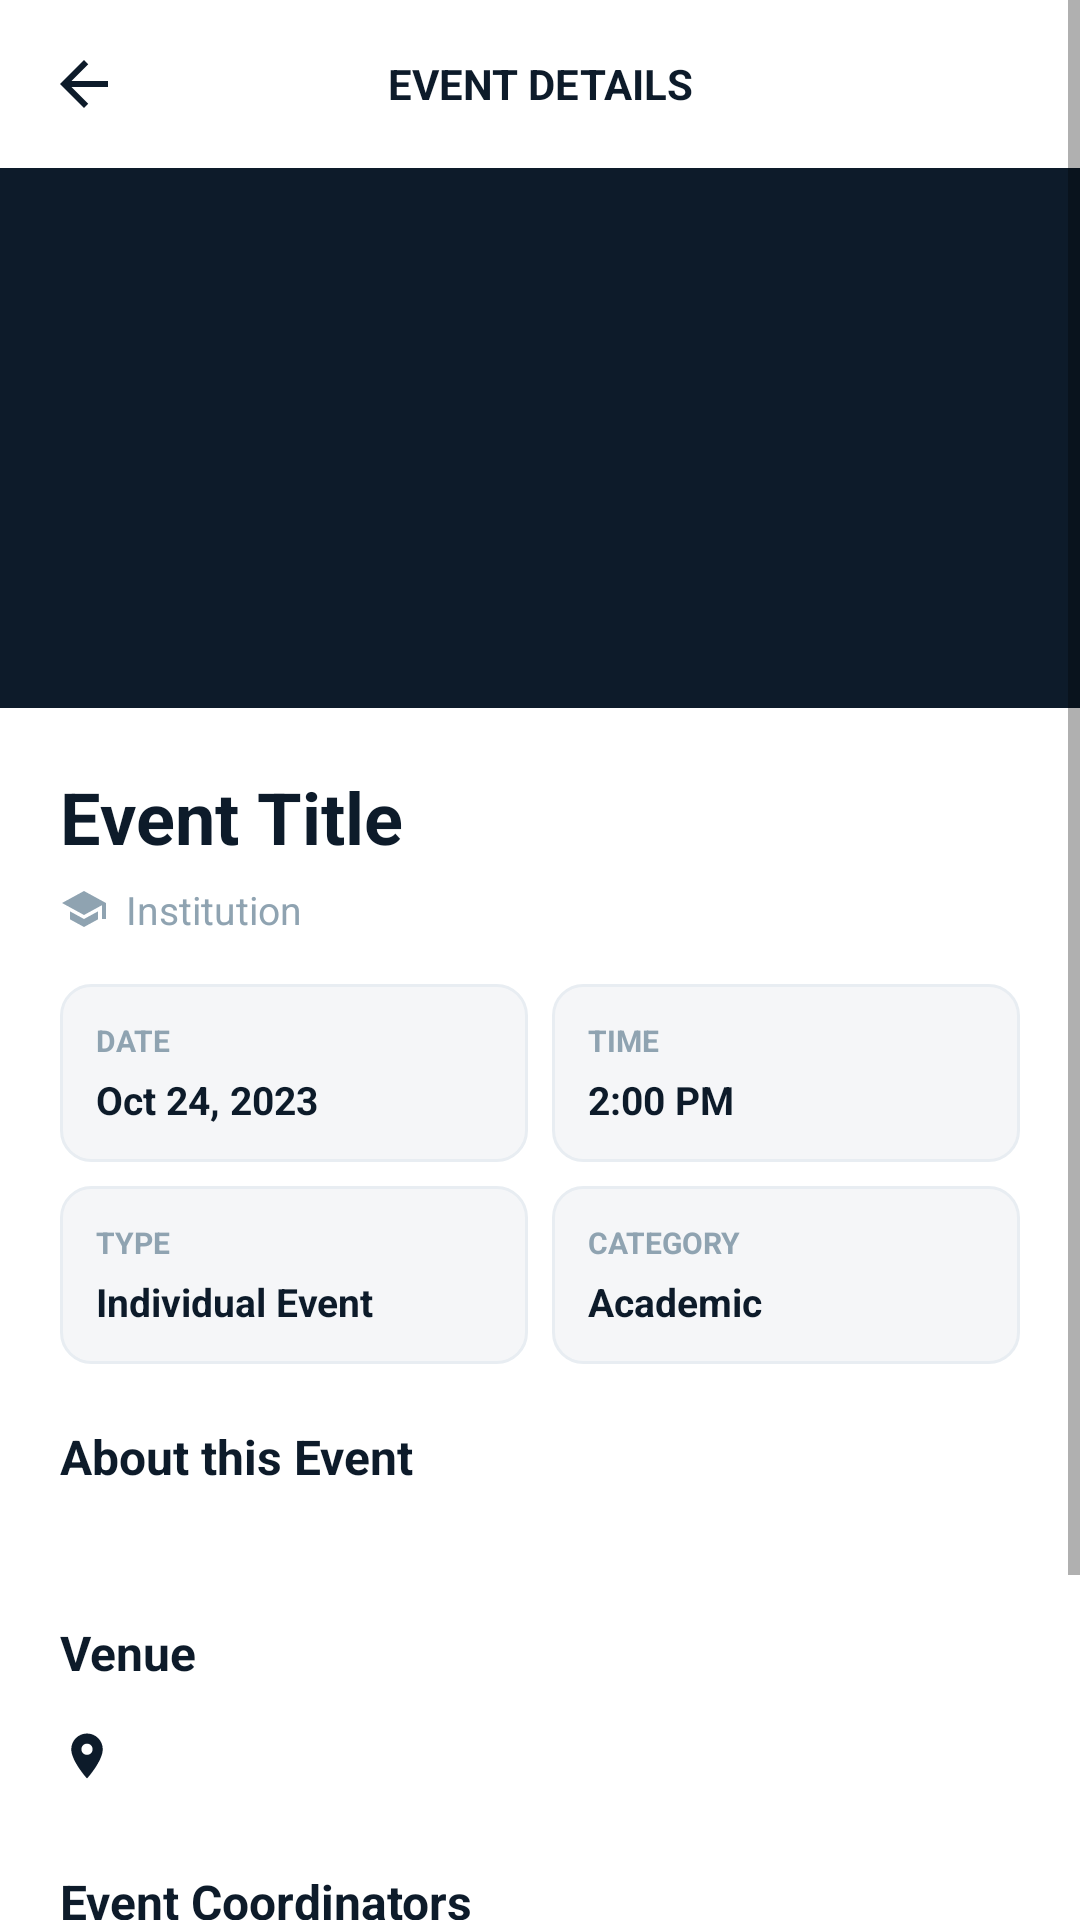

Named icons in this screenshot (1080px×1920px) and their centers, (x,y):
arrow back: (84,84)
location: (87,1755)
school: (84,909)
